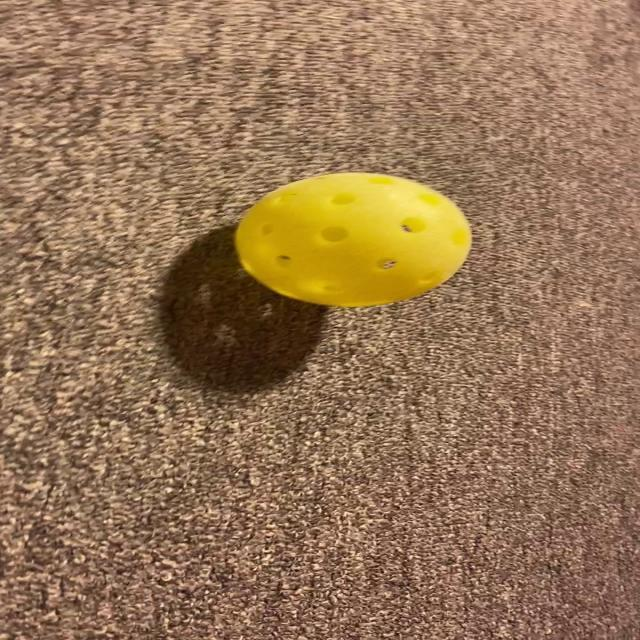ball: (229, 174, 484, 309)
